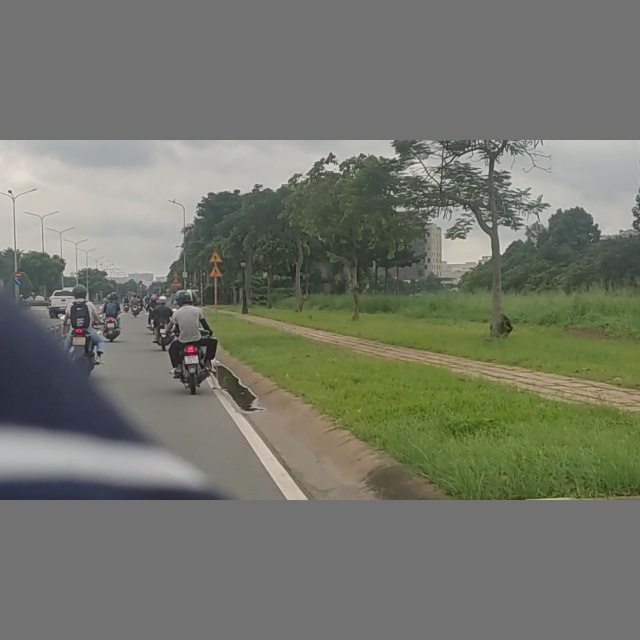P.102: (14, 271, 23, 278)
R.302a: (14, 278, 22, 285)
W.207: (209, 251, 223, 263)
W.224: (208, 265, 223, 277)
